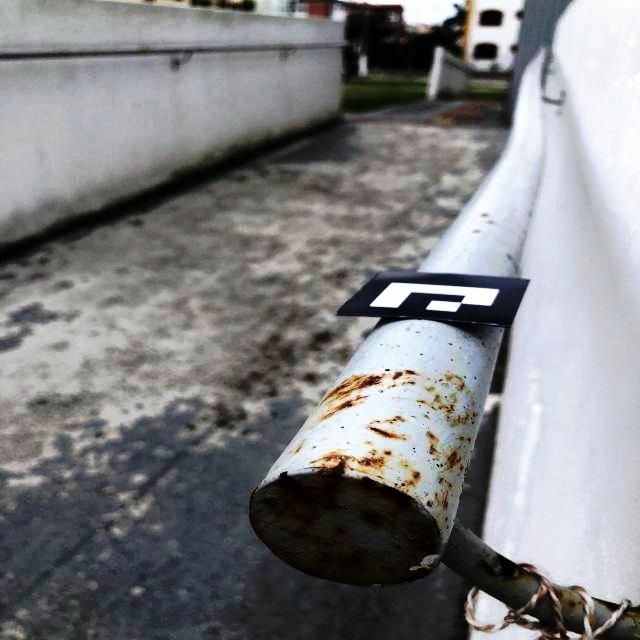Corrosion: (249, 439, 441, 587), (311, 370, 421, 429), (414, 370, 480, 427), (478, 552, 534, 580), (364, 415, 410, 440), (443, 436, 472, 471), (427, 476, 452, 511), (458, 458, 471, 492), (591, 597, 621, 611), (287, 439, 306, 455), (620, 604, 640, 619), (427, 430, 438, 455), (567, 599, 575, 608), (556, 589, 563, 599), (481, 213, 488, 217), (474, 229, 480, 233), (379, 389, 384, 393), (489, 221, 494, 224), (312, 446, 317, 449)
